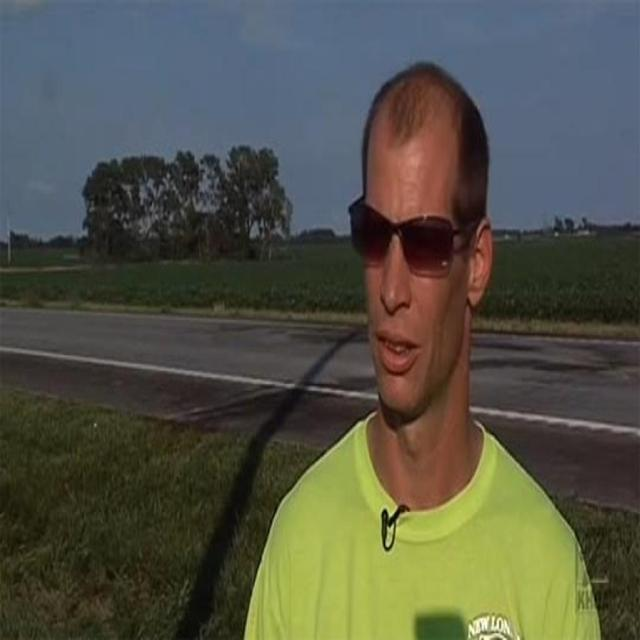Face: (360, 84, 485, 417)
